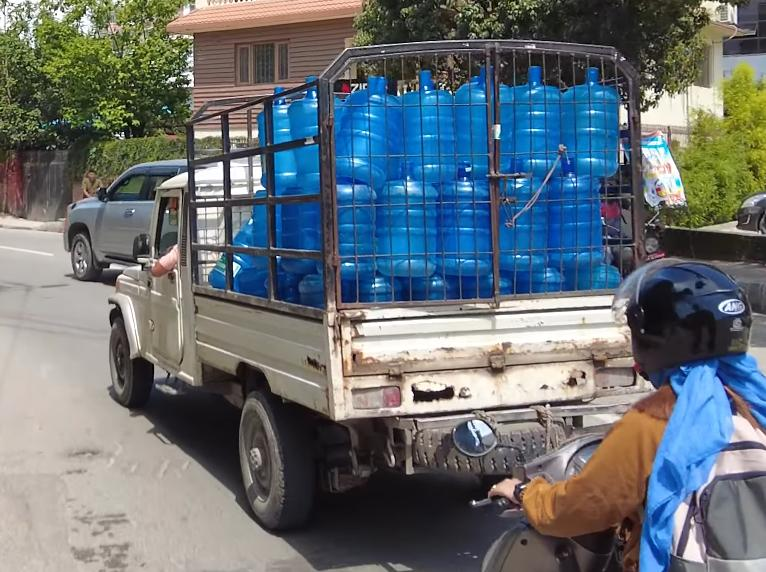car: (51, 146, 218, 293)
scooter: (426, 285, 766, 572)
transport_vehicle: (102, 33, 659, 531)
